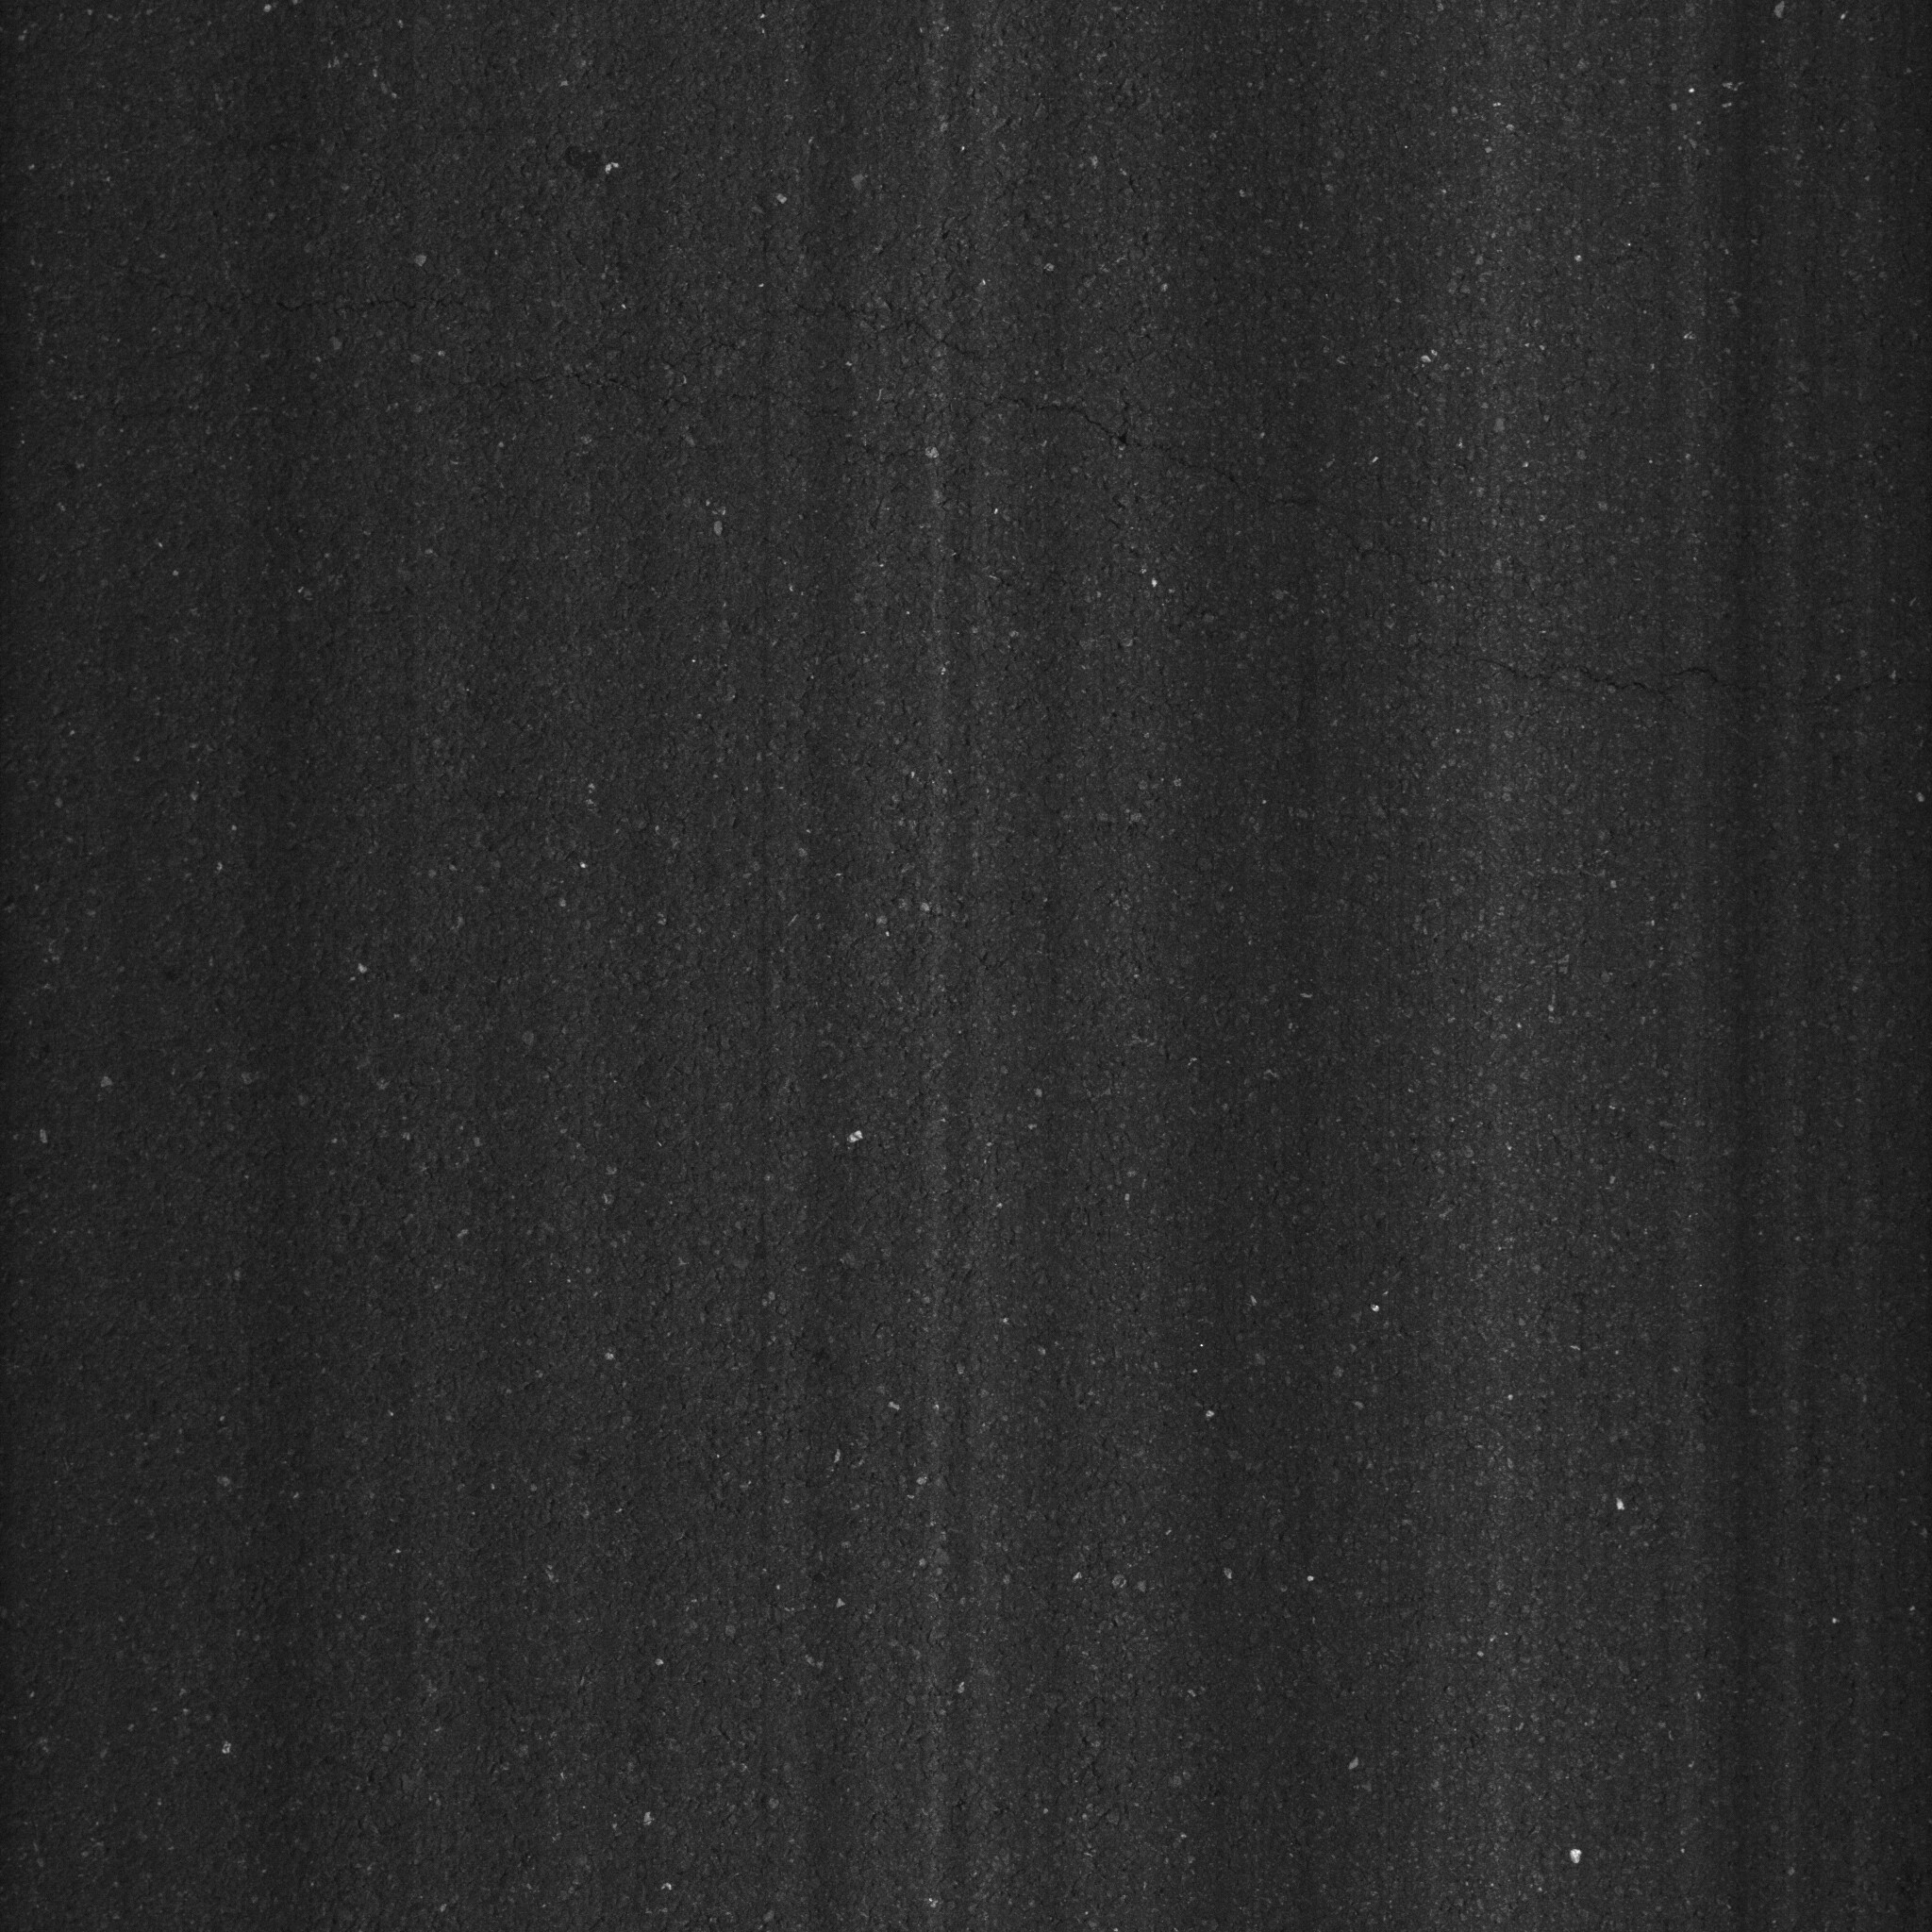transeverse: (770, 290, 1913, 741)
